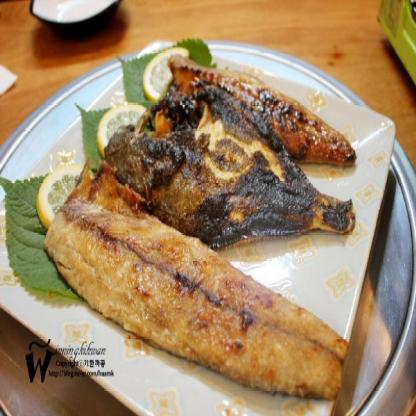Peixe: (46, 53, 380, 403)
